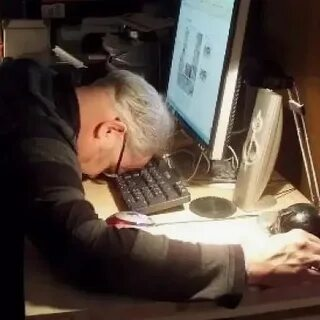sleep: (1, 56, 320, 295)
